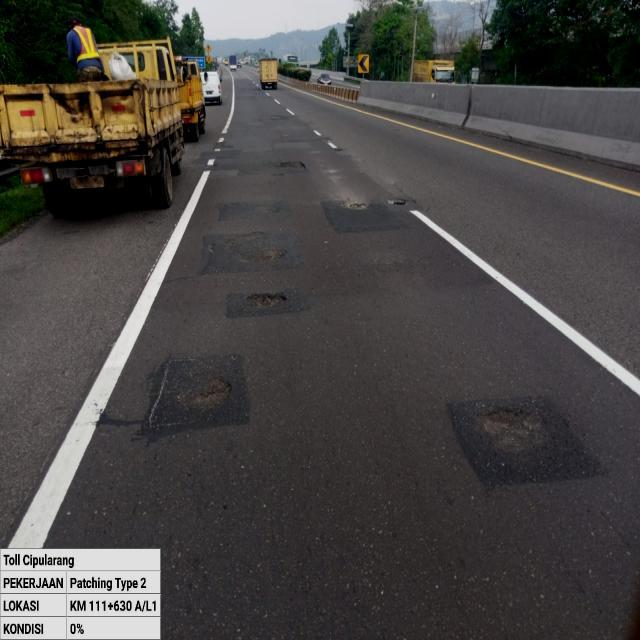Buraco: (468, 402, 559, 458), (172, 371, 236, 418), (242, 290, 292, 312), (249, 244, 290, 266), (336, 199, 376, 212), (277, 159, 308, 170), (383, 196, 411, 208)
